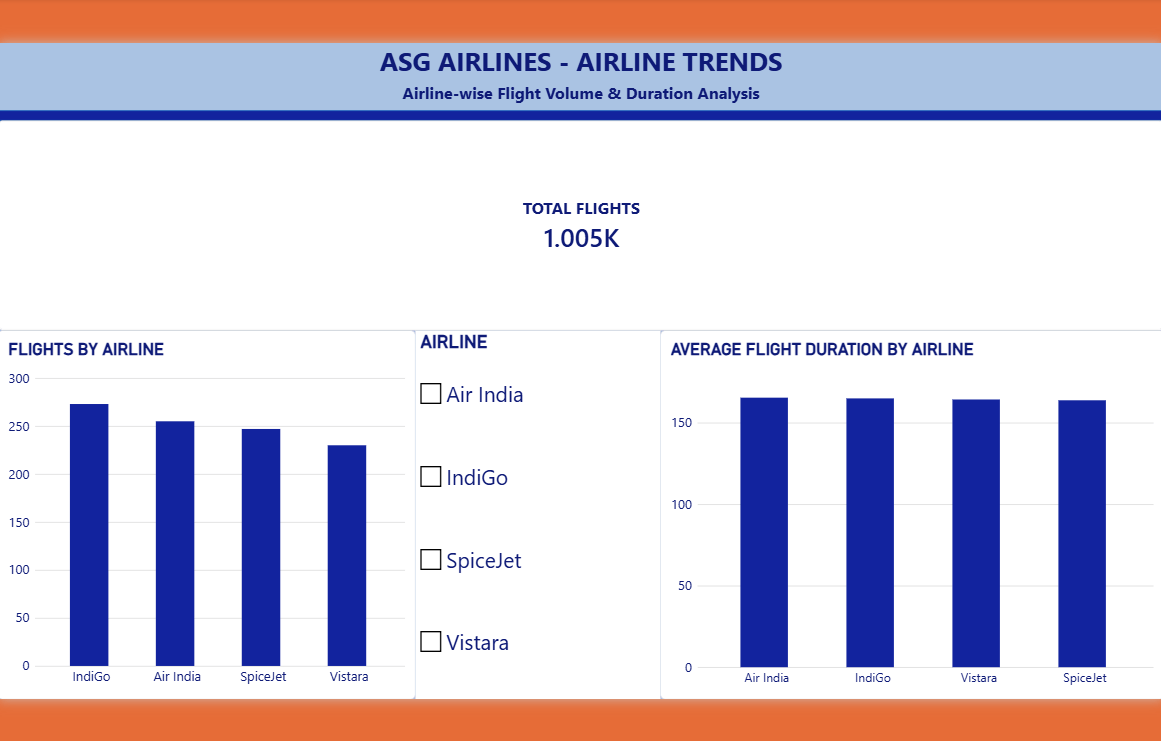

The page's visual inventory and layout, read from the dashboard file:
{"tool":"powerbi","page":{"name":"Airline Trends","canvas":[1920,1080],"ordinal":3},"visuals":[{"type":"clusteredColumnChart","title":"FLIGHTS BY AIRLINE","fields":{"Category":["cleaned_flights.airline"],"Y":["CountNonNull(cleaned_flights.flight_id)"]},"box":[0,473.4,687.5,607.2],"z":0},{"type":"clusteredColumnChart","title":"AVERAGE FLIGHT DURATION BY AIRLINE","fields":{"Category":["cleaned_flights.airline"],"Y":["Avg(cleaned_flights.duration_minutes)"]},"box":[1090.9,473.4,829.5,607.2],"z":1000},{"type":"slicer","fields":{"Values":["cleaned_flights.airline"]},"box":[687.5,473.4,403.4,607.2],"z":2000},{"type":"textbox","box":[0,0,1920.4,63.8],"z":3000},{"type":"textbox","box":[0,63.8,1920.4,47.3],"z":4000},{"type":"shape","box":[0,111.1,1920.4,16.5],"z":5000},{"type":"cardVisual","fields":{"Data":["CountNonNull(cleaned_flights.flight_id)"]},"box":[0,127.6,1920.4,345.8],"z":6000}]}

Visuals, with their boxes on the page's 1920x1080 design canvas (x1, y1, x2, y2). These are canvas units, not pixel positions in the 1161x741 screenshot, which may show the page scaled, cropped or inside an application window:
"FLIGHTS BY AIRLINE" clusteredColumnChart: {"left": 0, "top": 473, "right": 688, "bottom": 1081}
"AVERAGE FLIGHT DURATION BY AIRLINE" clusteredColumnChart: {"left": 1091, "top": 473, "right": 1920, "bottom": 1081}
slicer - cleaned_flights.airline: {"left": 688, "top": 473, "right": 1091, "bottom": 1081}
textbox: {"left": 0, "top": 0, "right": 1920, "bottom": 64}
textbox: {"left": 0, "top": 64, "right": 1920, "bottom": 111}
shape: {"left": 0, "top": 111, "right": 1920, "bottom": 128}
cardVisual - CountNonNull(cleaned_flights.flight_id): {"left": 0, "top": 128, "right": 1920, "bottom": 473}
